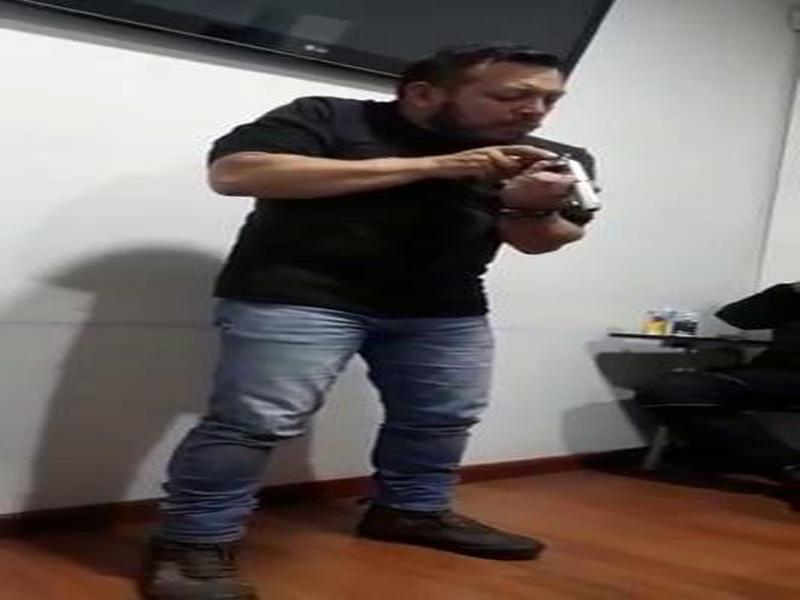Revolver: (478, 130, 621, 239)
